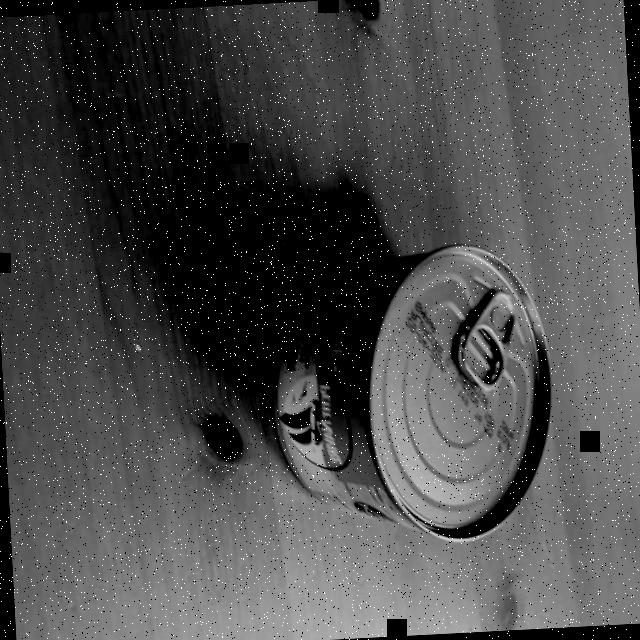can: (260, 234, 564, 549)
